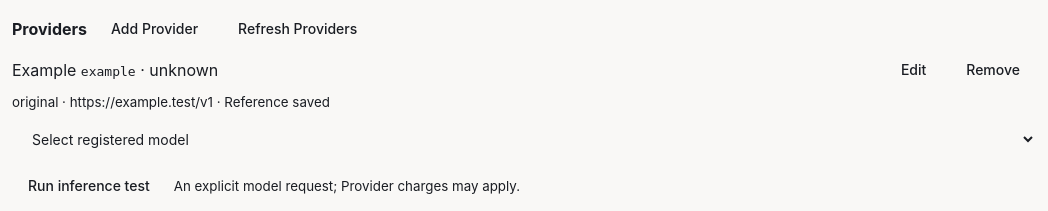
Studio Provider configuration › fails closed on malformed projected metadata and removes stale rows
Expected: the button with aria-label "Edit example" is shown, [885,53,942,86]
Click the button "Refresh Providers". click: (298, 28)
box: [222,12,373,45]
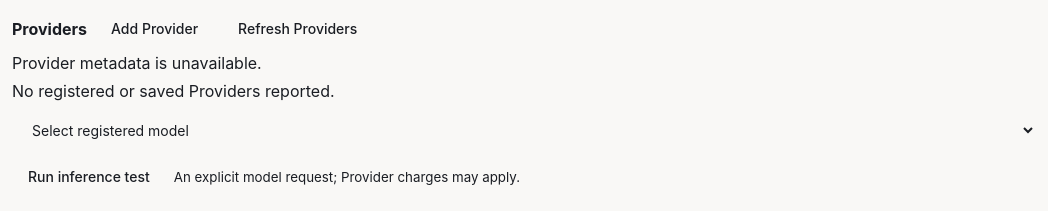
Now the message shows "Provider metadata is unavailable", box [12,53,262,73]
